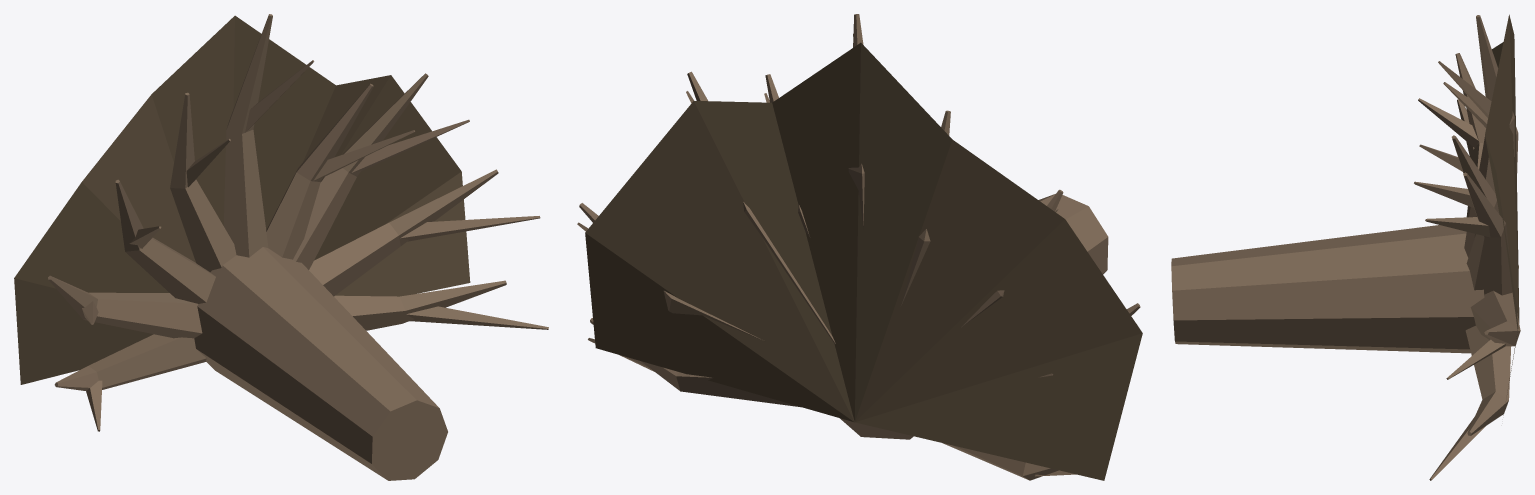
The model's file is root-plate.glb.
The picture shows the model from 3 angles, left to right: view 1: azimuth 30°, elevation 25°; view 2: azimuth 150°, elevation 25°; view 3: azimuth 270°, elevation 25°; orthographic projection. The views are drawn at different scales.
Visible parts, largest first — view 1: prop_root-plate_LOD0; view 2: prop_root-plate_LOD0; view 3: prop_root-plate_LOD0.
Boxes of the visible parts, bbox=[...] form: prop_root-plate_LOD0: bbox=[14, 14, 548, 480]; prop_root-plate_LOD0: bbox=[577, 14, 1142, 480]; prop_root-plate_LOD0: bbox=[1171, 14, 1520, 480].
Bounding box in the file's own units: 3.61 × 2.45 × 2.24.
